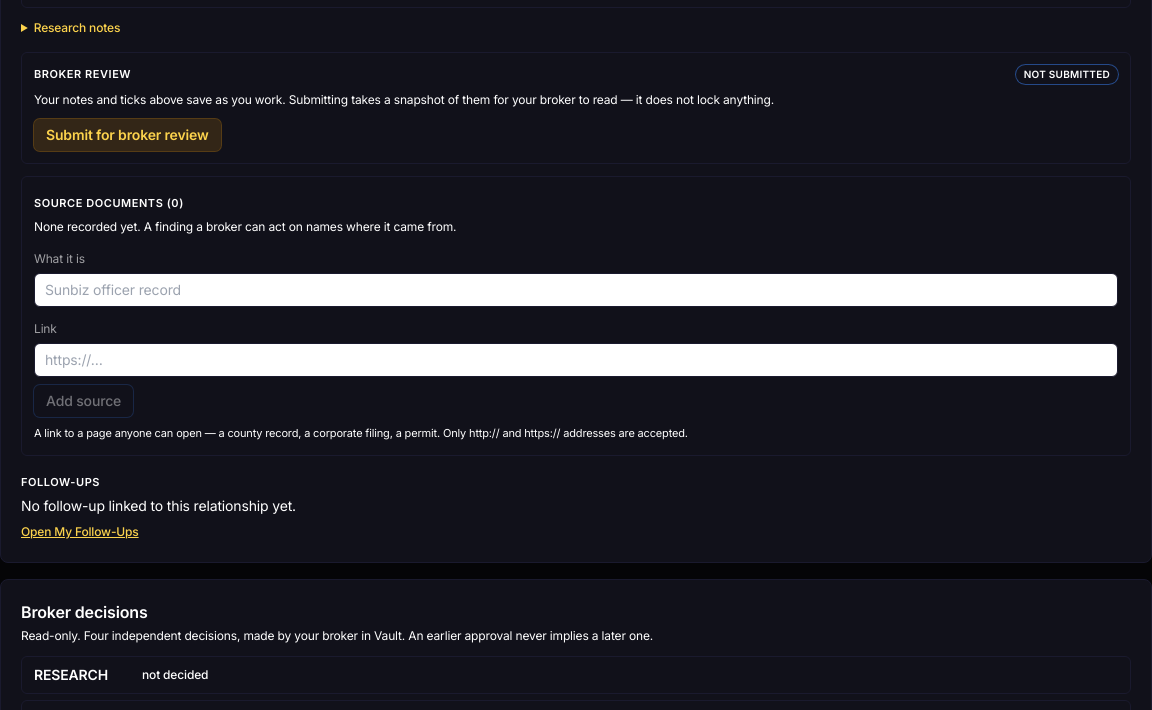
it: [P12A-AP-4] source documents › the button is unavailable until a URL is typed
The width and height of the screenshot is (1152, 710).
(page scrolled)
Check: the element with test id "submission" is shown, box x1=21 y1=52 x2=1131 y2=164
Check: the button with test id "add-source-button" is disabled, box x1=34 y1=385 x2=133 y2=417
Type "https://x.test/a" into the field with test id "source-url" at x=576, y=360, box x1=34 y1=343 x2=1118 y2=377
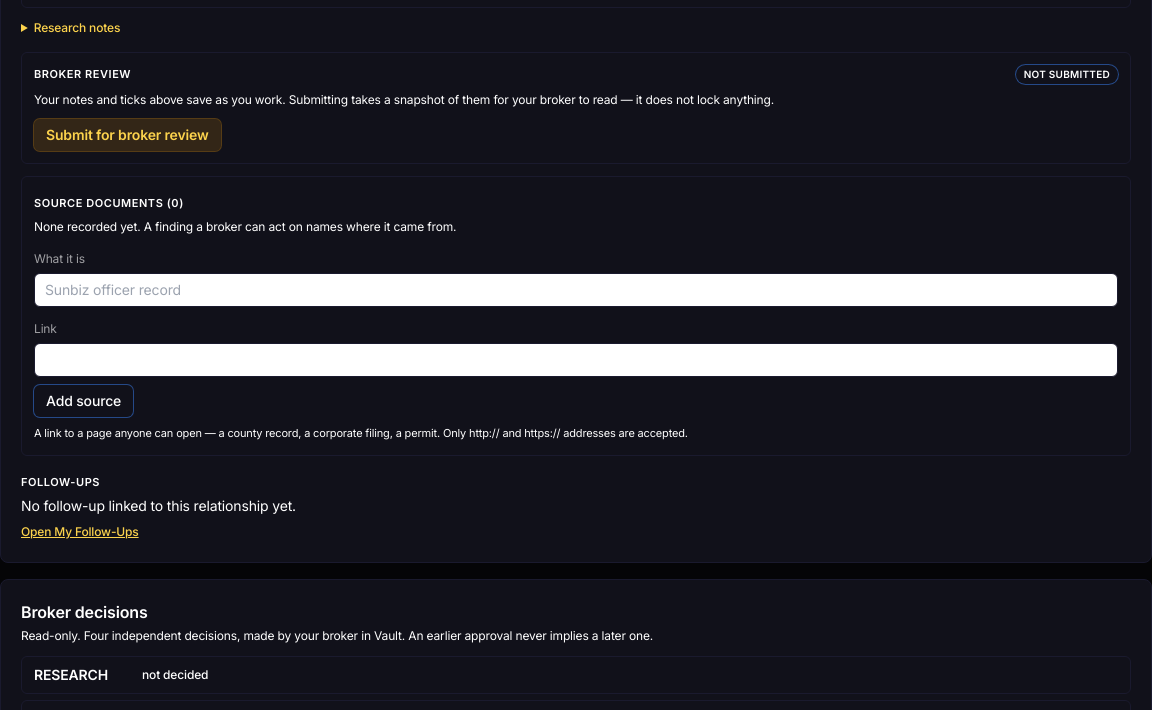
Check: the button with test id "add-source-button" is enabled, box x1=34 y1=385 x2=133 y2=417
